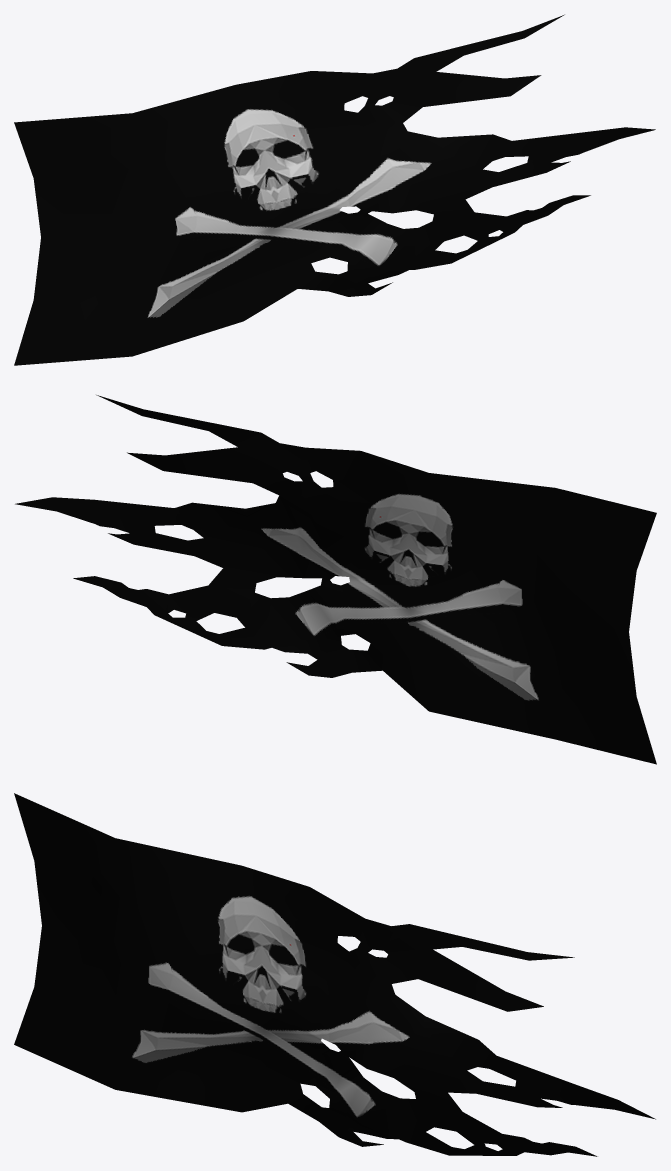
File: Pirate_Flag_A.fbx
The picture shows the model from 3 angles, top to bottom: view 1: azimuth 30°, elevation 25°; view 2: azimuth 150°, elevation 25°; view 3: azimuth 330°, elevation 25°; orthographic projection. The views are drawn at different scales.
Parts seen in each view (by area): view 1: Pirate_Flag_A; view 2: Pirate_Flag_A; view 3: Pirate_Flag_A.
Boxes of the visible parts, x1=… form: Pirate_Flag_A: x1=14, y1=14, x2=655, y2=365; Pirate_Flag_A: x1=15, y1=395, x2=656, y2=764; Pirate_Flag_A: x1=14, y1=793, x2=655, y2=1156.
Bounding box in the file's own units: 4.34 × 1.66 × 0.2254.
1 material, 1 textured.
